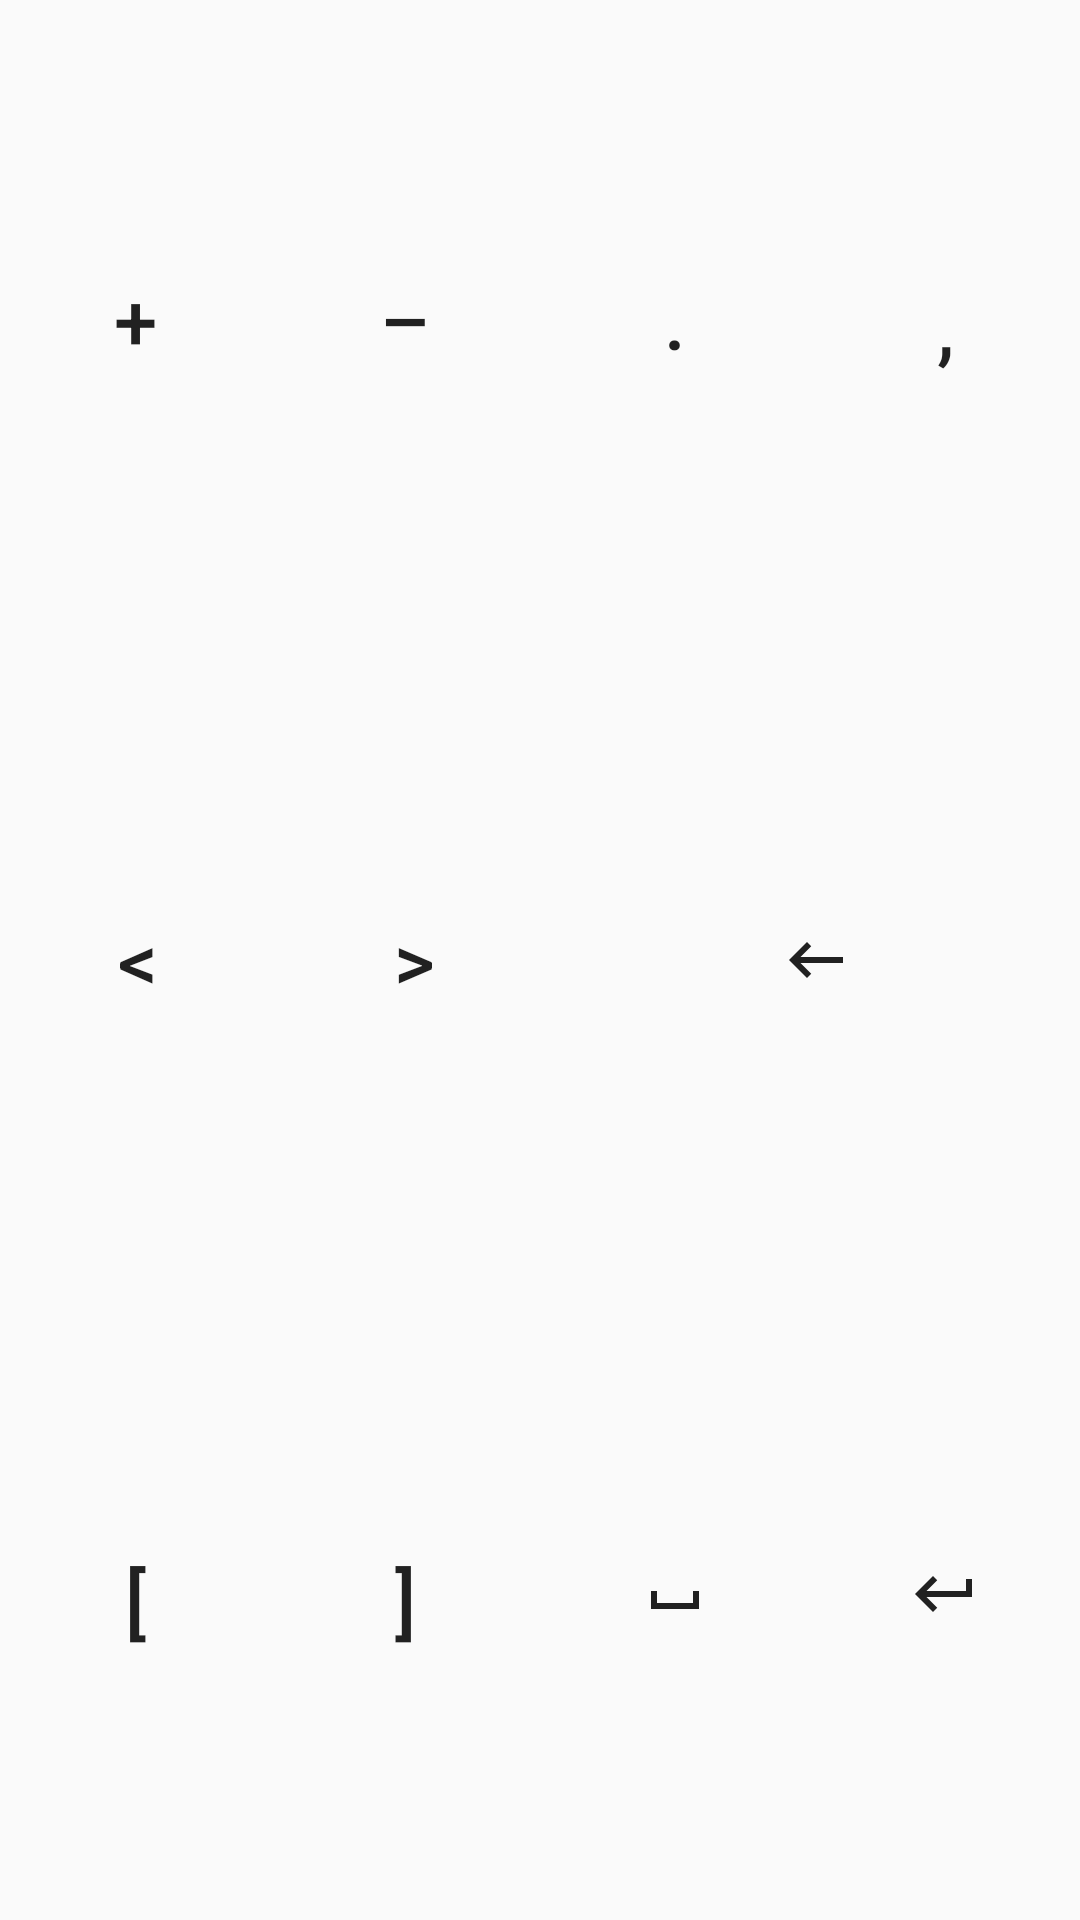

Icon bounding boxes for this 1080 × 1920 phone screenshot, format bbox(x1, y1, x2, y2):
Backspace: bbox(789, 942, 843, 978)
Return: bbox(915, 1576, 972, 1612)
Space: bbox(651, 1591, 699, 1609)
